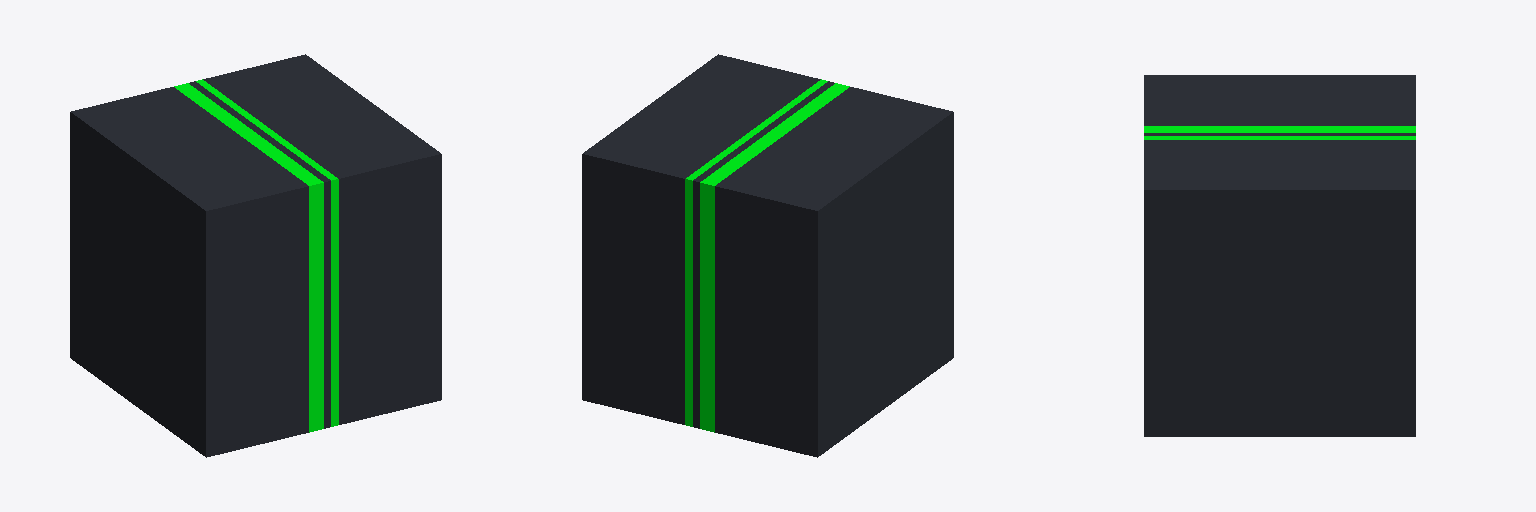
3 renders of one model, left to right at view 1: azimuth 30°, elevation 25°; view 2: azimuth 150°, elevation 25°; view 3: azimuth 270°, elevation 25°, orthographic.
Bounding box in the file's own units: 32 × 32 × 32.
Materials: 1 (1 with a texture image).